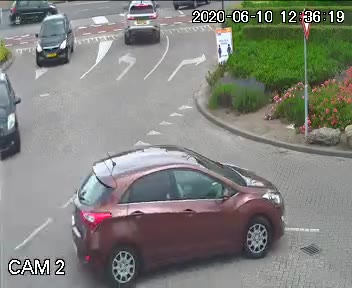car: (49, 138, 280, 281), (0, 69, 27, 161), (35, 13, 76, 70), (117, 0, 162, 47), (7, 0, 59, 28)
